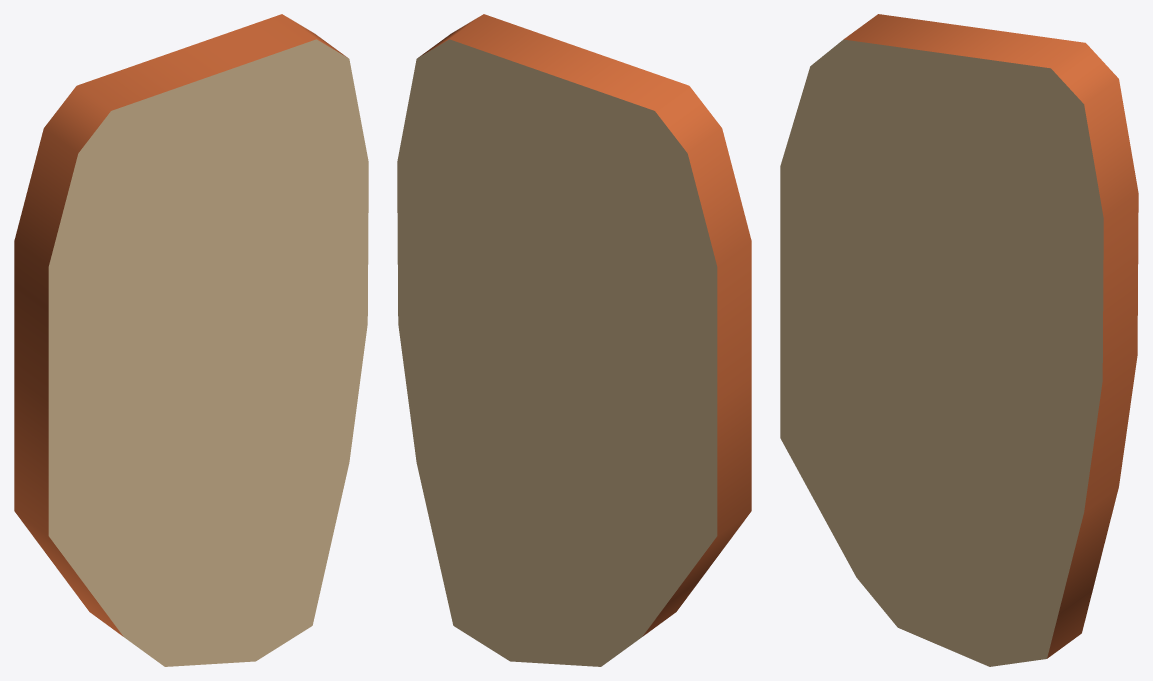
The model's file is SM_meatslice.fbx.
3 renders of one model, left to right at view 1: azimuth 30°, elevation 25°; view 2: azimuth 150°, elevation 25°; view 3: azimuth 330°, elevation 25°, orthographic.
Parts seen in each view (by area): view 1: Plane012; view 2: Plane012; view 3: Plane012.
Part boxes in pixels (x1,y1,x2,y2): Plane012: (14,14,368,666); Plane012: (397,14,751,666); Plane012: (780,14,1138,666).
Bounding box in the file's own units: 4.49 × 0.8379 × 8.14.
